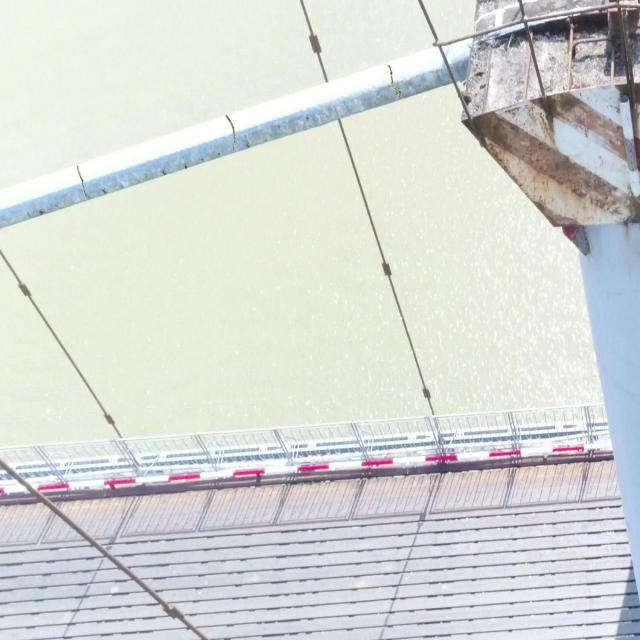crack: (386, 64, 404, 98), (224, 115, 237, 151), (76, 165, 88, 198)
